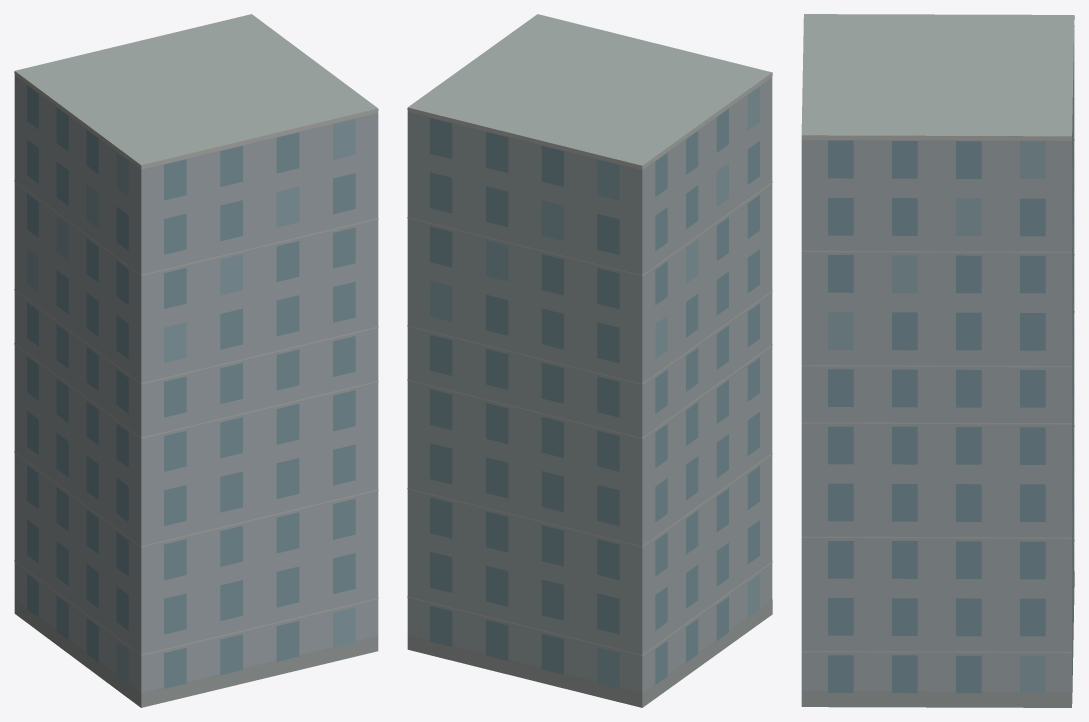
Rendered from residential-240881a5-c233-4b71-b702-45ccc1061143.glb.
3 renders of one model, left to right at view 1: azimuth 30°, elevation 25°; view 2: azimuth 150°, elevation 25°; view 3: azimuth 270°, elevation 25°, orthographic. The views are drawn at different scales.
Visible parts, largest first — view 1: residential-240881a5-c233-4b71-b702-45ccc1061143.tmp; view 2: residential-240881a5-c233-4b71-b702-45ccc1061143.tmp; view 3: residential-240881a5-c233-4b71-b702-45ccc1061143.tmp.
Boxes of the visible parts, <box> form: residential-240881a5-c233-4b71-b702-45ccc1061143.tmp: <box>14,14,378,707</box>; residential-240881a5-c233-4b71-b702-45ccc1061143.tmp: <box>407,14,772,707</box>; residential-240881a5-c233-4b71-b702-45ccc1061143.tmp: <box>801,14,1074,707</box>.
Bounding box in the file's own units: 14.02 × 30.5 × 13.22.
